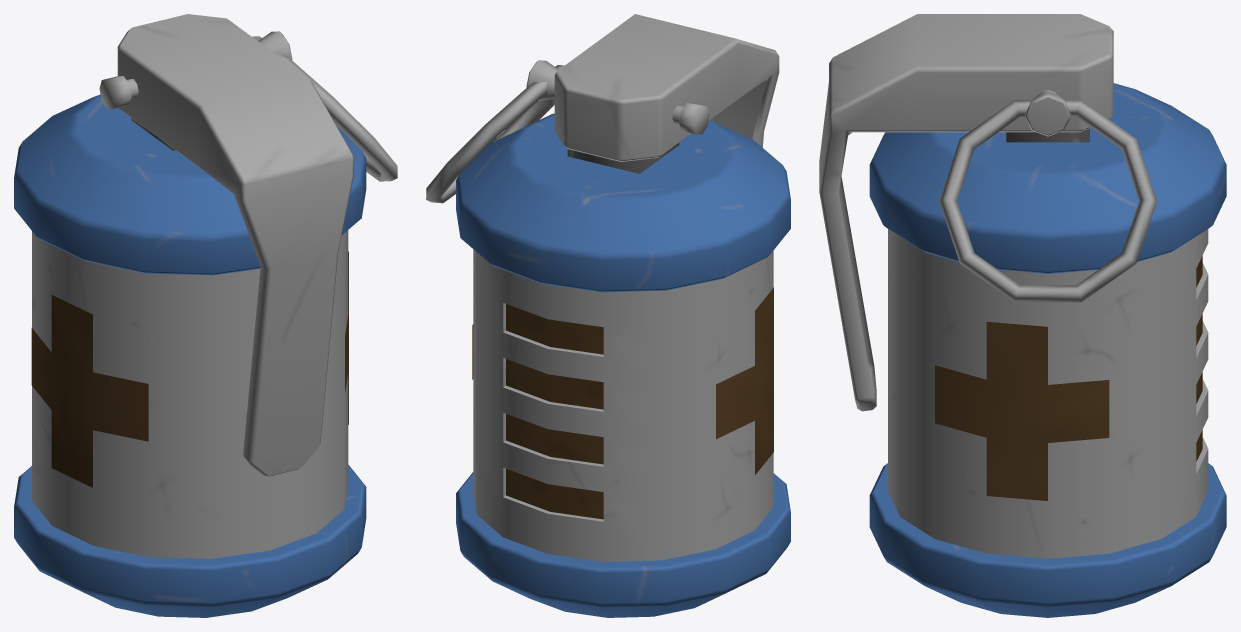
File: healing granade.fbx
The picture shows the model from 3 angles, left to right: view 1: azimuth 30°, elevation 25°; view 2: azimuth 150°, elevation 25°; view 3: azimuth 270°, elevation 25°; orthographic projection. The views are drawn at different scales.
Parts seen in each view (by area): view 1: healingGranade; view 2: healingGranade; view 3: healingGranade.
Boxes of the visible parts, x1,y1,x2,y2 form: healingGranade: [14, 14, 397, 617]; healingGranade: [426, 14, 790, 617]; healingGranade: [819, 14, 1226, 617].
Size of the model in its own units: 11.42 by 16.87 by 11.78.
